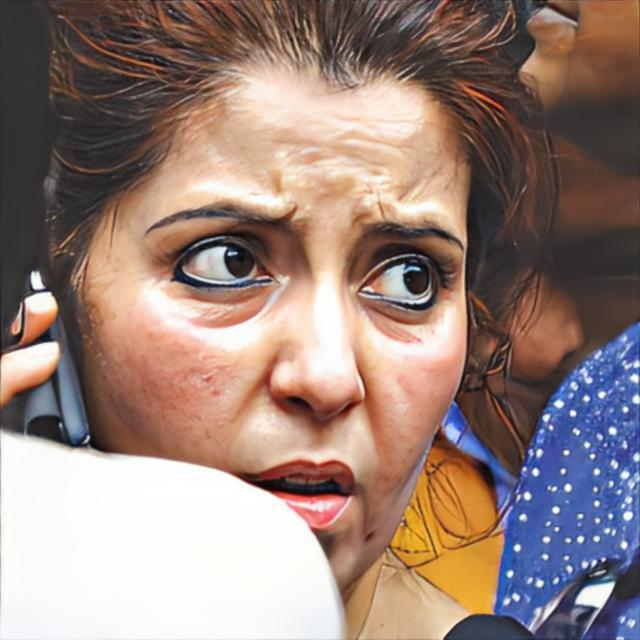Fear: (65, 24, 476, 610)
